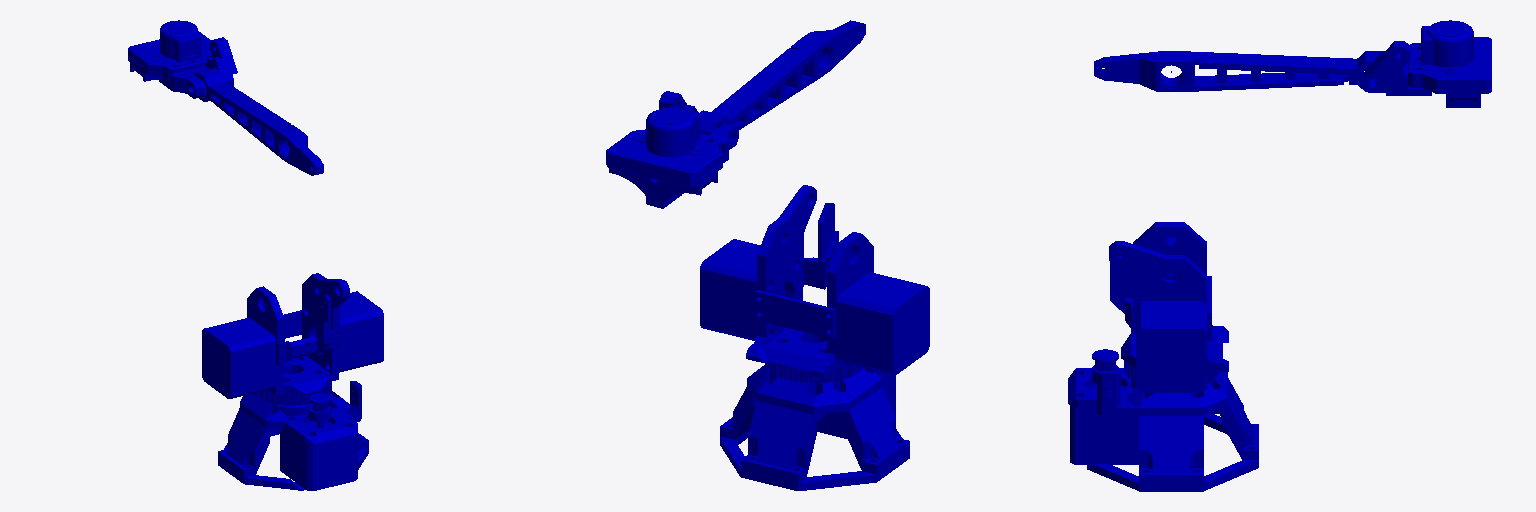
The robot description file, URDF, robot "robot":
<?xml version="1.0"?>
<robot name="robot">

  <material name = "blue">
    <color rgba="0 0 0.8 1"/>
  </material>

  <link name="base">
    <visual>
      <geometry>
      	<mesh filename="package://belt_robot_description/urdf/meshes/belt_arm_ros_base.stl"/>
      </geometry>
      <material name="blue"/>
    </visual>
    <collision>
      <geometry>
        <cylinder length="0.055" radius="0.051"/>
        <origin xyz="0 0 0.0275"/>
      </geometry>
    </collision>
  </link>

  <link name="body">
    <visual>
      <geometry>
        <mesh filename="package://belt_robot_description/urdf/meshes/belt_arm_ros_body.stl"/>
      </geometry>
      <material name="blue"/>
    </visual>
    <collision>
      <geometry>
        <box size="0.052 0.042 0.0835"/>
        <origin xyz="0 0 0.04175"/>
      </geometry>
    </collision>
  </link>

  <joint name="base_body" type="revolute">
    <parent link="base"/>
    <child link="body"/>
    <limit effort="1000.0" lower="-1.5708" upper="1.5708" velocity="0.5"/>
    <axis xyz="0 0 1"/>
    <origin xyz="0 0 0.056"/>
  </joint>

  <link name="lower">
    <visual>
      <geometry>
        <mesh filename="package://belt_robot_description/urdf/meshes/belt_arm_ros_lower.stl"/>
      </geometry>
      <origin rpy="0 0 0" xyz="0 0 0"/>
      <material name="blue"/>
    </visual>
    <collision>
      <geometry>
        <box size="0.04 0.025 0.14"/>
        <origin xyz = "0 0 0.128"/>
      </geometry>
    </collision>
  </link>

  <joint name="body_lower" type="revolute">
  	<parent link="body"/>
  	<child link="lower"/>
  	<limit effort="1000.0" lower="0.750492" upper="-1.5708" velocity="0.5"/>
  	<axis xyz="1 0 0"/>
  	<origin xyz="0 0 0.074"/>
  </joint>

  <link name="virtualupper">
  	<visual>
      <geometry>
        <cylinder length="0.001" radius="0.0001"/>
      </geometry>
      <material name="">
        <color rgba="0 0 0 0" />
      </material>
      <origin rpy="0 0 0" xyz="0 0 0"/>
    </visual>
    <collision>
      <geometry>
        <cylinder length="0.0001" radius="0.0001"/>
      </geometry>
      <origin rpy="0 0 0" xyz="0 0 0"/>
    </collision>
  </link>

  <joint name="lower_virtualupper" type="revolute">
    <parent link="lower"/>
    <child link="virtualupper"/>
    <axis xyz="1 0 0"/>
    <limit effort="30" velocity="1.0" lower="-3.14159" upper="3.14159" />
  	<origin xyz="0 0 0.12"/>
    <mimic joint="body_lower" multiplier="-1" offset="0" />
  </joint>

  <link name="upper">
    <visual>
      <geometry>
        <mesh filename="package://belt_robot_description/urdf/meshes/belt_arm_ros_upper.stl"/>
      </geometry>
      <origin rpy="0 0 0" xyz="0 0 0"/>
      <material name="blue"/>
    </visual>
    <collision>
      <geometry>
        <box size="0.015 0.176 0.02"/>
        <origin xyz = "0 0.13 0"/>
      </geometry>
    </collision>
  </link>

  <joint name="virtualupper_upper" type="revolute">
  	<parent link="virtualupper"/>
  	<child link="upper"/>
  	<limit effort="1000.0" lower="0.484" upper="-2.24741" velocity="0.5"/>
  	<axis xyz="1 0 0"/>
  	<origin xyz="0 0 0"/>
  </joint>

  <link name="manipulator">
    <visual>
      <geometry>
        <mesh filename="package://belt_robot_description/urdf/meshes/belt_arm_ros_manipulator.stl"/>
      </geometry>
      <origin rpy="0 0 0" xyz="0 0 0"/>
      <material name="blue"/>
    </visual>


  </link>

   <joint name="upper_manipulator" type="revolute">
  	<parent link="upper"/>
  	<child link="manipulator"/>
  	<limit effort="1000.0" lower="0.484" upper="-1.24741" velocity="0.5"/>
  	<axis xyz="1 0 0"/>
  	<origin xyz="0 0.12 0"/>
  	<mimic joint="virtualupper_upper" multiplier="-1" offset="0"/>
  </joint>

  <link name="gripper_left">
    <visual>
      <geometry>
        <mesh filename="package://belt_robot_description/urdf/meshes/belt_arm_ros_gripper_left.stl"/>
      </geometry>
      <origin rpy="0 0 0" xyz="0 0 0"/>
      <material name="blue"/>
    </visual>
  </link>

  <link name="gripper_right">
    <visual>
      <geometry>
        <mesh filename="package://belt_robot_description/urdf/meshes/belt_arm_ros_gripper_right.stl"/>
      </geometry>
      <origin rpy="0 0 0" xyz="0 0 0"/>
      <material name="blue"/>
    </visual>
  </link>

  <joint name="manipulator_gripper" type="prismatic">
  	<parent link="manipulator"/>
  	<child link="gripper_left"/>
  	<limit effort="1000.0" lower="0" upper="0.015" velocity="0.5"/>
  	<axis xyz="1 0 0"/>
  	<origin xyz="0 0 0"/>
  </joint>

  <joint name="manipulator_gripper_mimic" type="prismatic">
  	<parent link="manipulator"/>
  	<child link="gripper_right"/>
  	<limit effort="1000.0" lower="-0.015" upper="0" velocity="0.5"/>
  	<axis xyz="1 0 0"/>
  	<origin xyz="0 0 0"/>
  	<mimic joint="manipulator_gripper" multiplier="-1" offset="0" />
  </joint>

</robot>

--- Render facts (derived) ---
3 views of the same robot in one strip: view 1: azimuth 30°, elevation 25°; view 2: azimuth 150°, elevation 25°; view 3: azimuth 270°, elevation 25° (orthographic).
Robot: robot — 8 links, 7 joints (5 revolute, 2 prismatic); root link base; default pose: all joints at 0.
Visible links, largest first — view 1: body, base, manipulator, upper; view 2: body, base, manipulator, upper, gripper_right, gripper_left; view 3: base, body, upper, manipulator, gripper_left.
Boxes of the visible links, bbox=[...] form: body: bbox=[202, 273, 383, 405]; base: bbox=[218, 381, 368, 490]; manipulator: bbox=[128, 20, 237, 98]; upper: bbox=[195, 68, 323, 175]; body: bbox=[700, 185, 929, 383]; base: bbox=[720, 365, 909, 490]; manipulator: bbox=[606, 91, 738, 187]; upper: bbox=[699, 20, 865, 134]; gripper_right: bbox=[655, 165, 718, 208]; gripper_left: bbox=[609, 168, 658, 206]; base: bbox=[1068, 349, 1258, 491]; body: bbox=[1109, 222, 1228, 392]; upper: bbox=[1094, 51, 1382, 91]; manipulator: bbox=[1364, 20, 1491, 95]; gripper_left: bbox=[1443, 88, 1483, 107].
Size in the robot's own frame: 0.128 by 0.2515 by 0.2782 metres.
6 mesh visuals loaded from 7 distinct referenced files (6 binary STL); not drawn: 1 (reference not matched to a file when rendering).